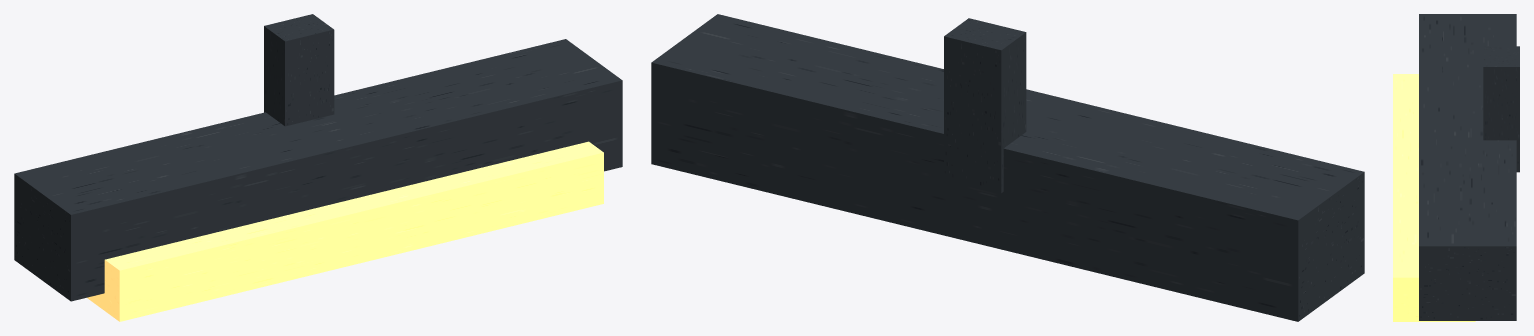
Rendered from WallStripLight.fbx.
3 renders of one model, left to right at view 1: azimuth 30°, elevation 25°; view 2: azimuth 150°, elevation 25°; view 3: azimuth 270°, elevation 25°, orthographic. The views are drawn at different scales.
Parts seen in each view (by area): view 1: WallStripLight; view 2: WallStripLight; view 3: WallStripLight.
Boxes of the visible parts, x1=… form: WallStripLight: x1=14, y1=14, x2=622, y2=321; WallStripLight: x1=651, y1=14, x2=1364, y2=321; WallStripLight: x1=1393, y1=14, x2=1519, y2=321.
Size of the model in its own units: 180 by 59 by 41.5.
